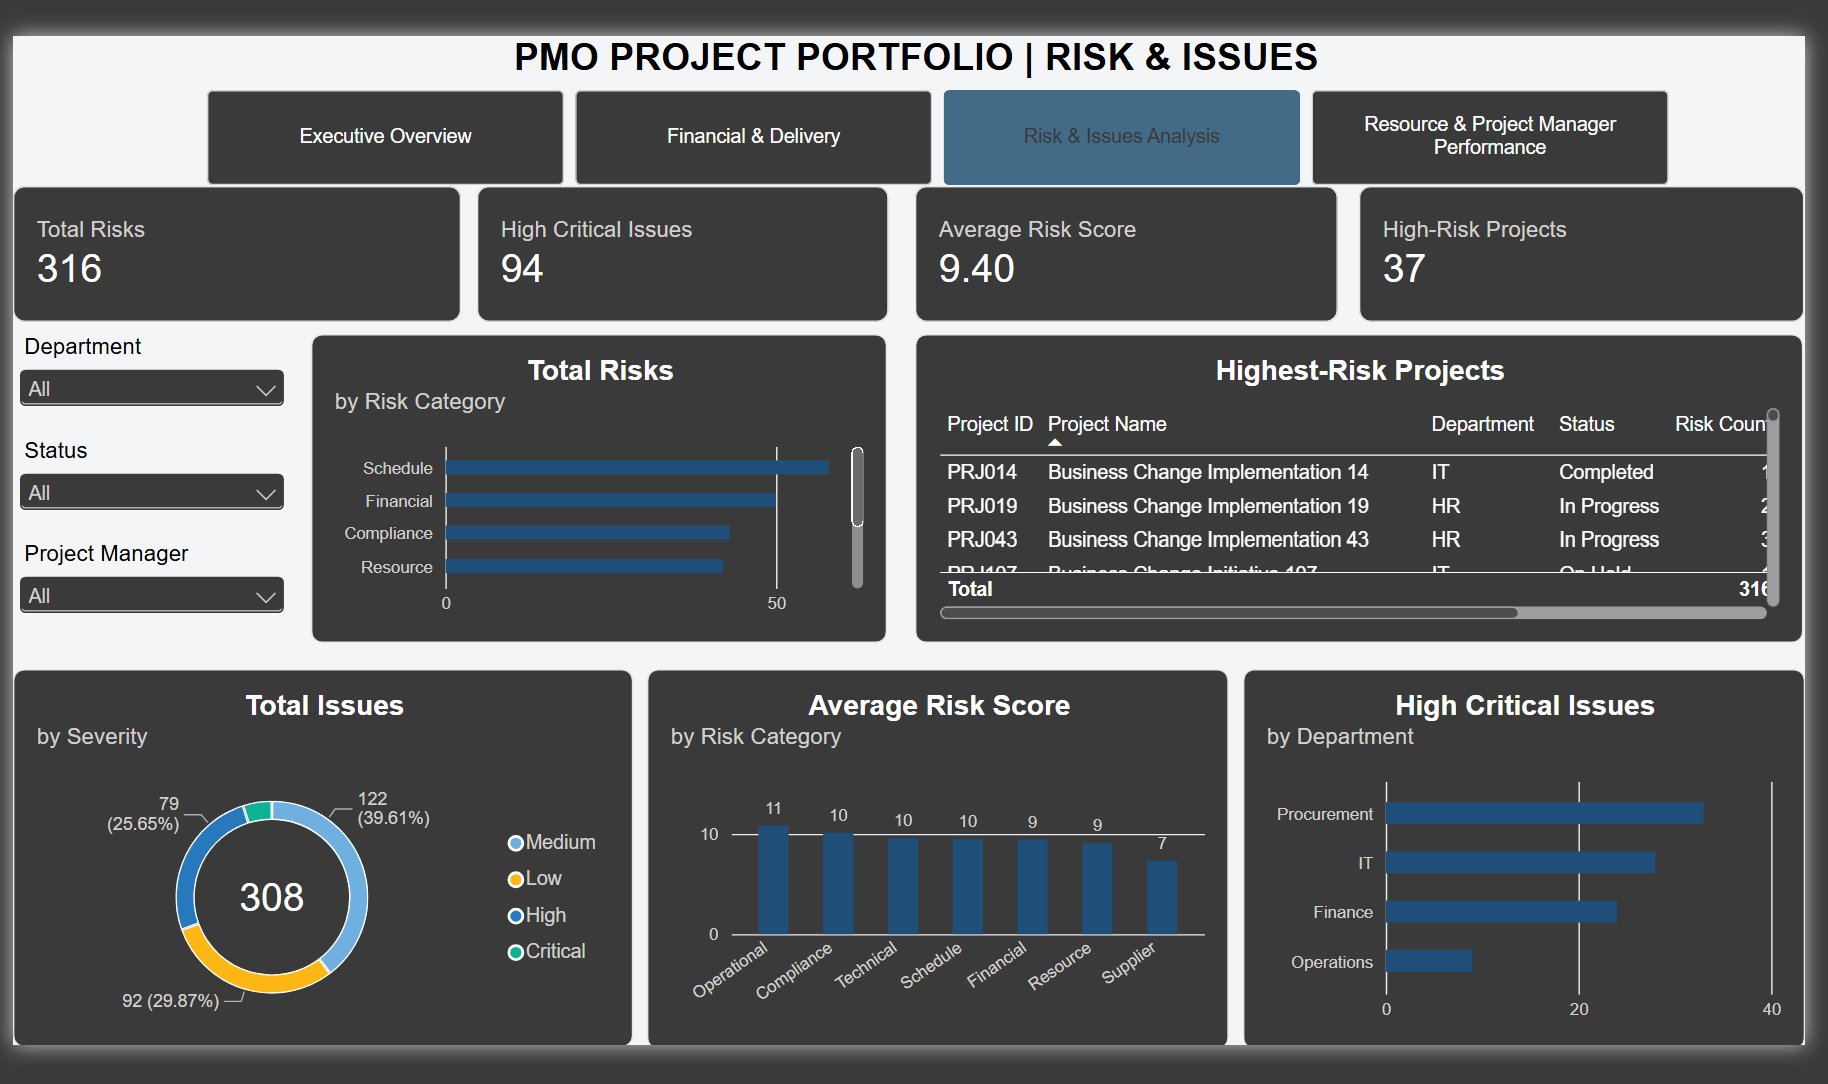

What the dashboard file says about the page in this screenshot:
{"tool":"powerbi","page":{"name":"Risk & Issues Analysis","canvas":[1280,720],"ordinal":2},"visuals":[{"type":"textbox","box":[9.5,0,1270.5,48.8],"z":0},{"type":"cardVisual","fields":{"Data":["pmo_project_portfolio risks.Total Risks"]},"box":[0,107.1,320,97.1],"z":1000},{"type":"cardVisual","fields":{"Data":["pmo_project_portfolio issues.High Critical Issues"]},"box":[331.4,107.1,294.3,97.1],"z":2000},{"type":"cardVisual","fields":{"Data":["pmo_project_portfolio risks.Average Risk Score"]},"box":[644.3,107.1,302.9,97.1],"z":3000},{"type":"cardVisual","fields":{"Data":["pmo_project_portfolio risks.High-Risk Projects"]},"box":[961.4,107.1,318.6,97.1],"z":4000},{"type":"slicer","fields":{"Values":["pmo_project_portfolio projects.department"]},"box":[0,212.9,198.6,71.4],"z":5000},{"type":"slicer","fields":{"Values":["pmo_project_portfolio projects.status"]},"box":[0,287.1,198.6,72.9],"z":6000},{"type":"slicer","fields":{"Values":["pmo_project_portfolio project_managers.manager_name"]},"box":[0,360,198.6,72.9],"z":7000},{"type":"clusteredBarChart","fields":{"Category":["pmo_project_portfolio risks.risk_category"],"Y":["pmo_project_portfolio risks.Total Risks"]},"box":[212.9,212.9,411.4,220],"z":8000},{"type":"clusteredColumnChart","fields":{"Category":["pmo_project_portfolio risks.risk_category"],"Y":["pmo_project_portfolio risks.Average Risk Score"]},"box":[452.9,451.4,415.7,271.4],"z":9000},{"type":"donutChart","fields":{"Category":["pmo_project_portfolio issues.severity"],"Y":["pmo_project_portfolio issues.Total Issues"]},"box":[0,451.4,442.9,270],"z":10000},{"type":"clusteredBarChart","fields":{"Category":["pmo_project_portfolio project_managers.department"],"Y":["pmo_project_portfolio issues.High Critical Issues"]},"box":[878.8,451.2,401.2,271.2],"z":11000},{"type":"tableEx","title":"Highest-Risk Projects","fields":{"Values":["pmo_project_portfolio projects.project_id","pmo_project_portfolio projects.project_name","pmo_project_portfolio projects.department","pmo_project_portfolio projects.status","pmo_project_portfolio risks.Risk Count","pmo_project_portfolio risks.Max Risk Score","pmo_project_portfolio risks.Average Risk Score"]},"box":[644.3,212.9,634.3,220],"z":12000},{"type":"pageNavigator","box":[138.6,38.6,1045.7,68.6],"z":13000}]}

Visuals, with their boxes in screenshot pixels (x1, y1, x2, y2):
textbox: 18/29/1807/97
cardVisual - pmo_project_portfolio risks.Total Risks: 5/179/455/316
cardVisual - pmo_project_portfolio issues.High Critical Issues: 471/179/886/316
cardVisual - pmo_project_portfolio risks.Average Risk Score: 912/179/1339/316
cardVisual - pmo_project_portfolio risks.High-Risk Projects: 1359/179/1807/316
slicer - pmo_project_portfolio projects.department: 5/328/284/429
slicer - pmo_project_portfolio projects.status: 5/433/284/536
slicer - pmo_project_portfolio project_managers.manager_name: 5/536/284/638
clusteredBarChart - pmo_project_portfolio risks.risk_category x pmo_project_portfolio risks.Total Risks: 305/328/884/638
clusteredColumnChart - pmo_project_portfolio risks.risk_category x pmo_project_portfolio risks.Average Risk Score: 643/664/1228/1047
donutChart - pmo_project_portfolio issues.severity x pmo_project_portfolio issues.Total Issues: 5/664/629/1045
clusteredBarChart - pmo_project_portfolio project_managers.department x pmo_project_portfolio issues.High Critical Issues: 1242/664/1807/1046
"Highest-Risk Projects" tableEx: 912/328/1806/638
pageNavigator: 200/83/1673/180
